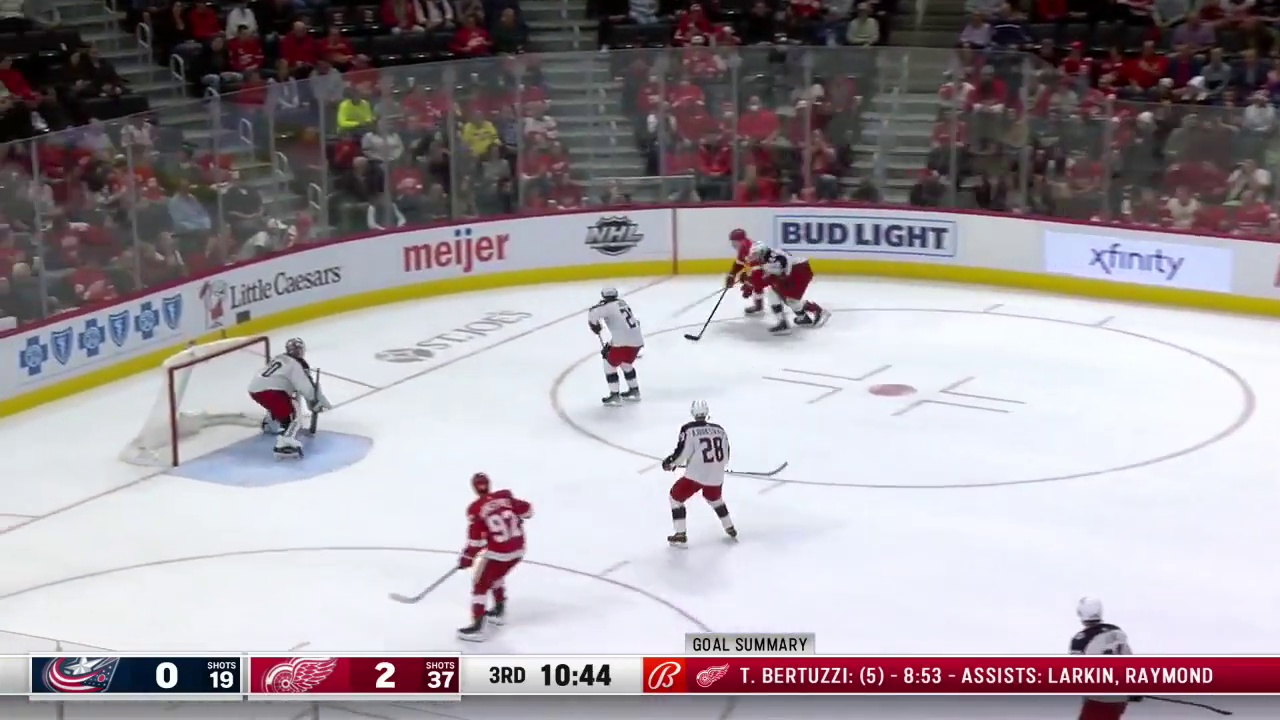goalie: (248, 337, 332, 461)
hockeyplayer: (457, 472, 533, 643), (662, 399, 738, 548), (749, 239, 831, 336), (587, 286, 645, 408), (728, 228, 792, 337)
referee: (1068, 597, 1144, 720)
